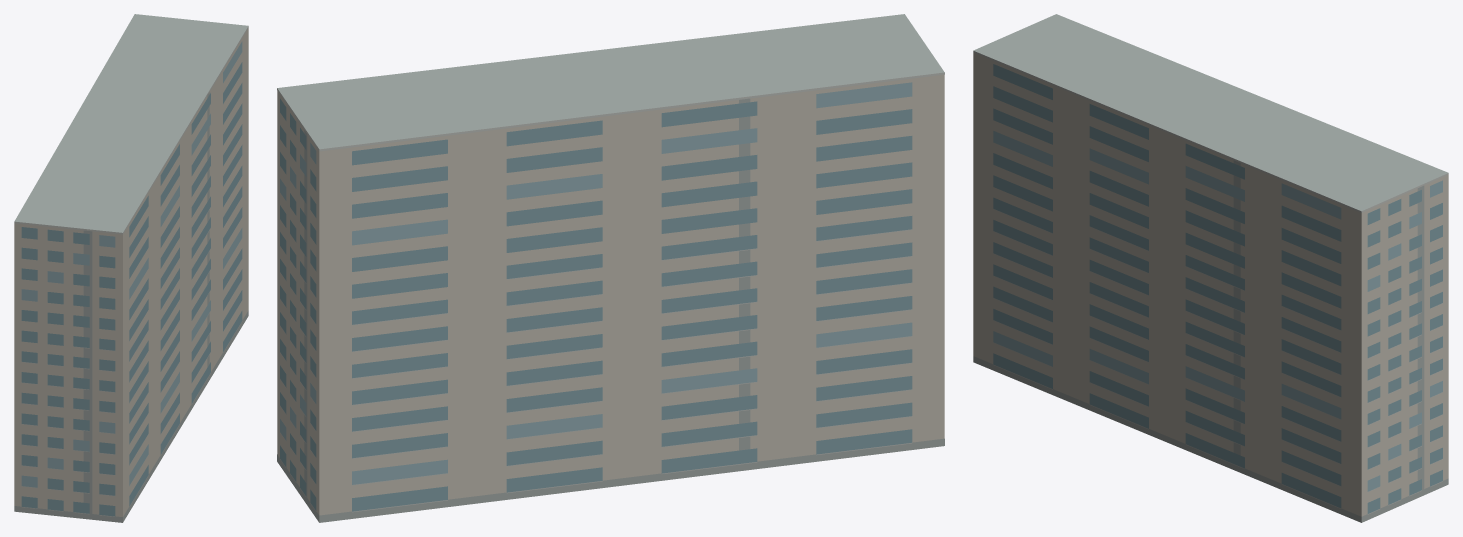
File: residential-4ac8bfa7-caa9-4628-bc36-94814888f6eb.glb
3 renders of one model, left to right at view 1: azimuth 30°, elevation 25°; view 2: azimuth 150°, elevation 25°; view 3: azimuth 270°, elevation 25°, orthographic. The views are drawn at different scales.
Parts seen in each view (by area): view 1: residential-4ac8bfa7-caa9-4628-bc36-94814888f6eb.tmp; view 2: residential-4ac8bfa7-caa9-4628-bc36-94814888f6eb.tmp; view 3: residential-4ac8bfa7-caa9-4628-bc36-94814888f6eb.tmp.
Boxes of the visible parts, box(x1,y1,x2,y2) form: residential-4ac8bfa7-caa9-4628-bc36-94814888f6eb.tmp: box(14, 14, 248, 522); residential-4ac8bfa7-caa9-4628-bc36-94814888f6eb.tmp: box(277, 14, 944, 522); residential-4ac8bfa7-caa9-4628-bc36-94814888f6eb.tmp: box(973, 14, 1448, 522).
Bounding box in the file's own units: 57.99 × 42.7 × 59.06.
